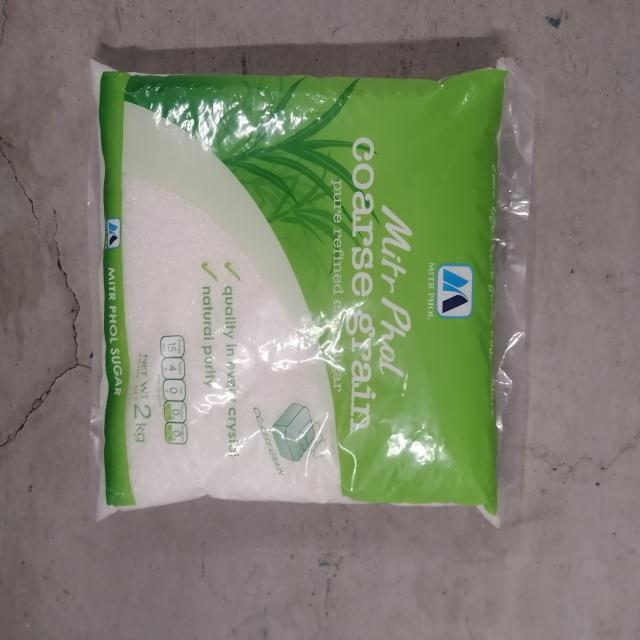object_name: (87, 67, 508, 506)
